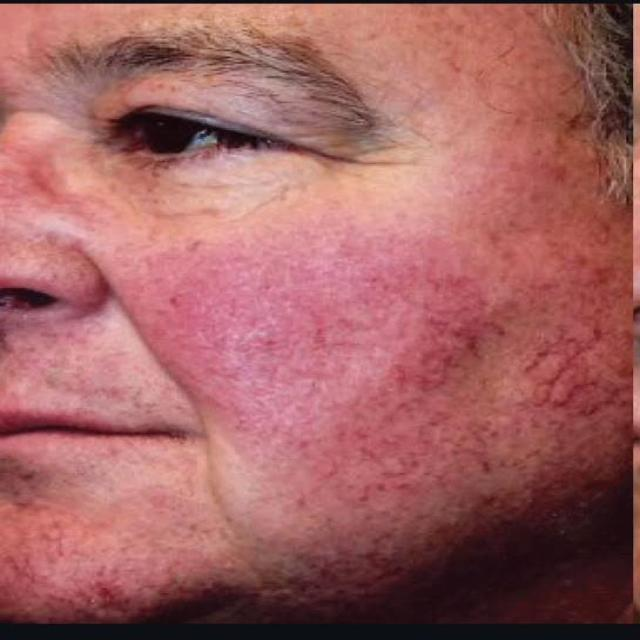Rosacea: (148, 242, 606, 473)
